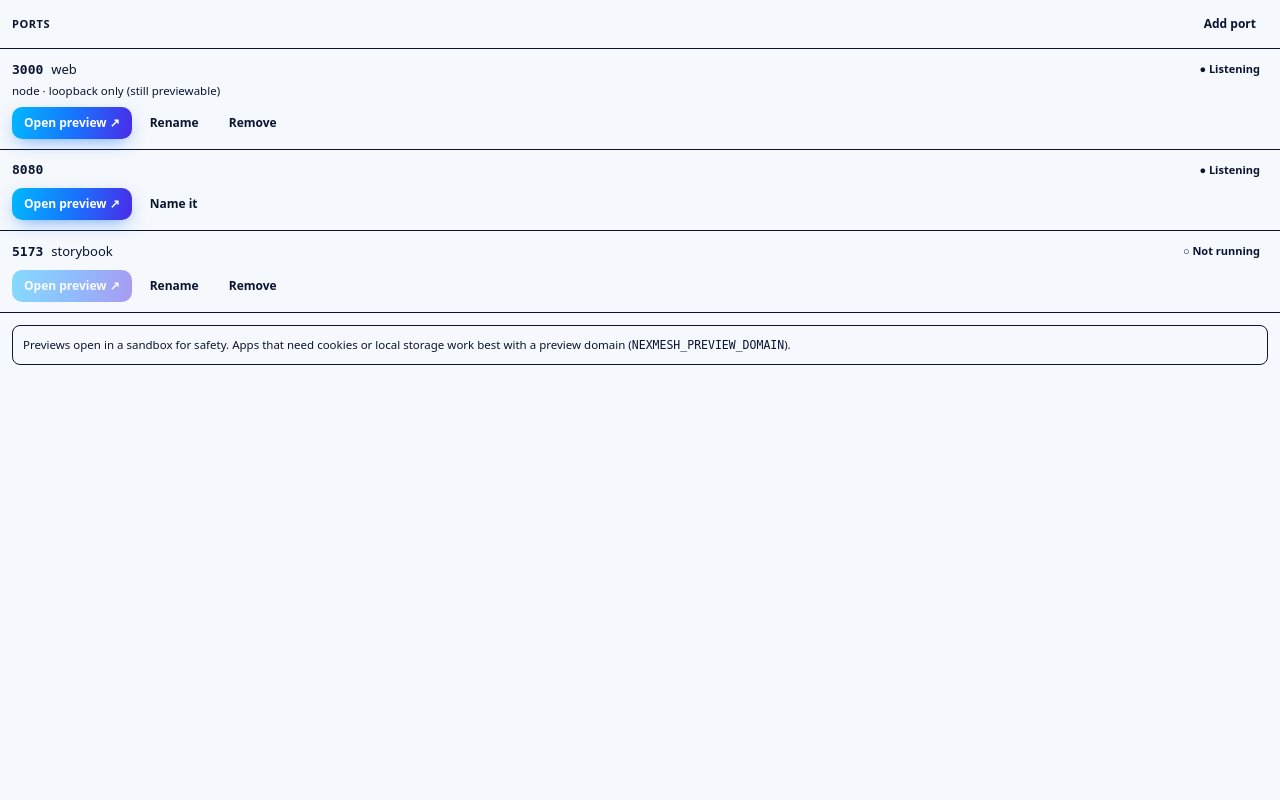
Test: PortsPanel › declares, renames and removes ports
The width and height of the screenshot is (1280, 800).
Later steps or results of the test are not shown.
Click the button "Add port": [1230, 24] box left=1192, top=8, right=1268, bottom=40
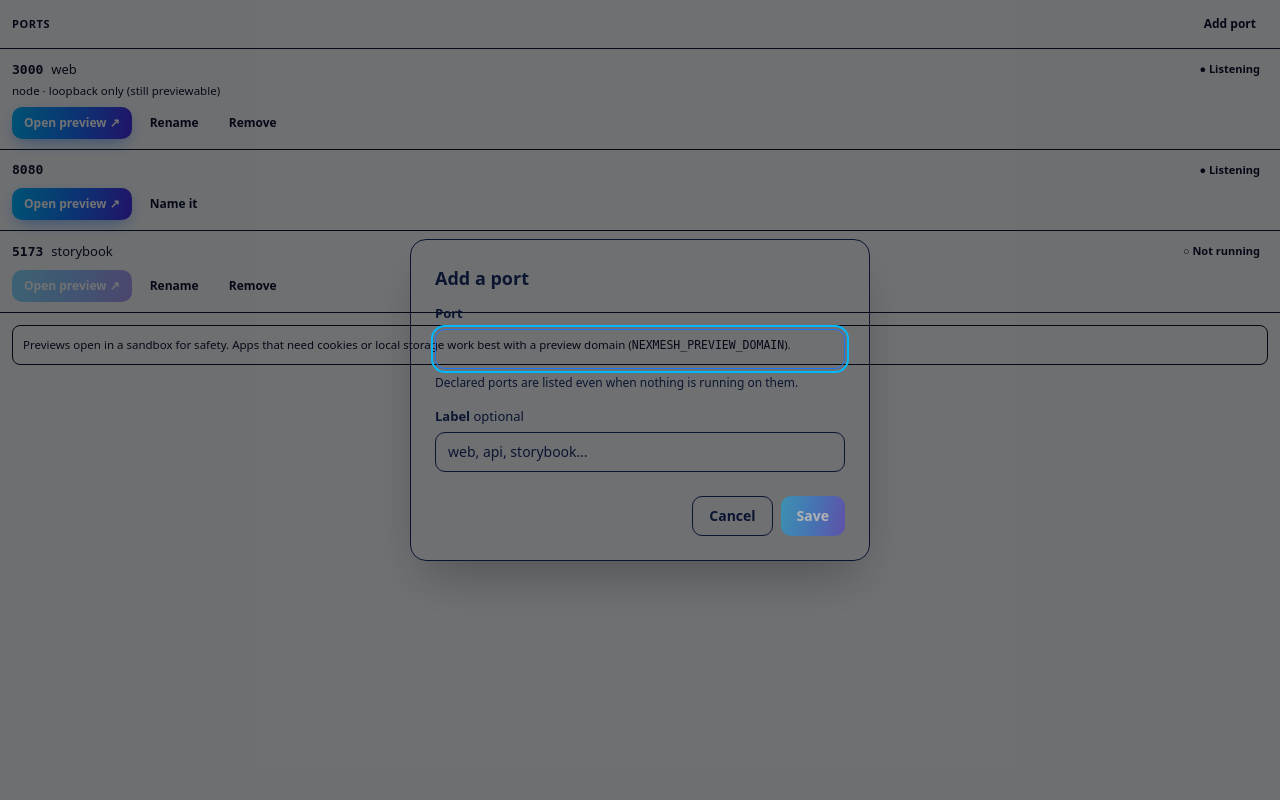
Expected: the button "Save" is disabled, left=781, top=496, right=845, bottom=536
